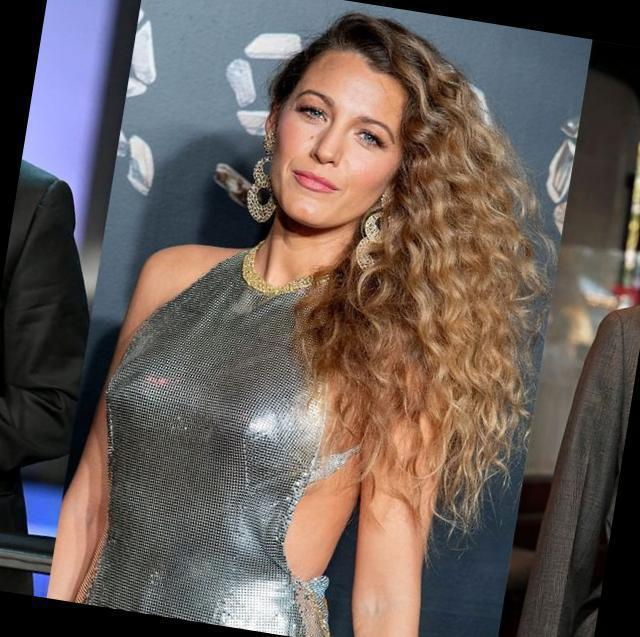Drunk: (272, 60, 397, 229)
